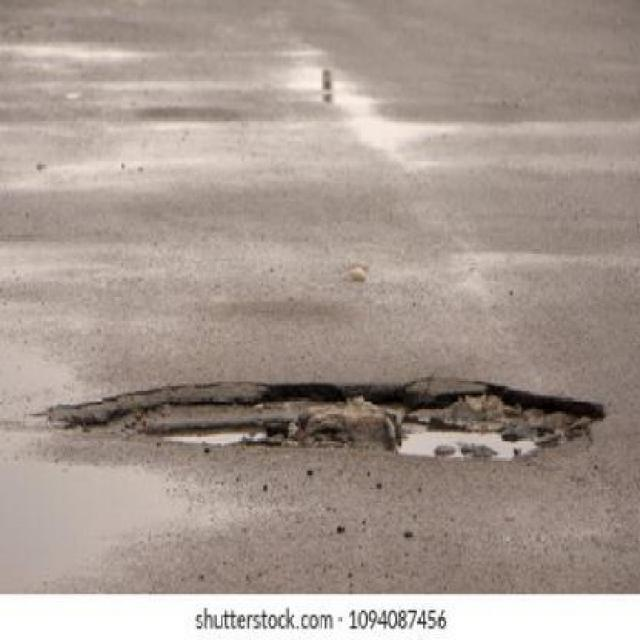Buraco: (26, 373, 615, 475)
